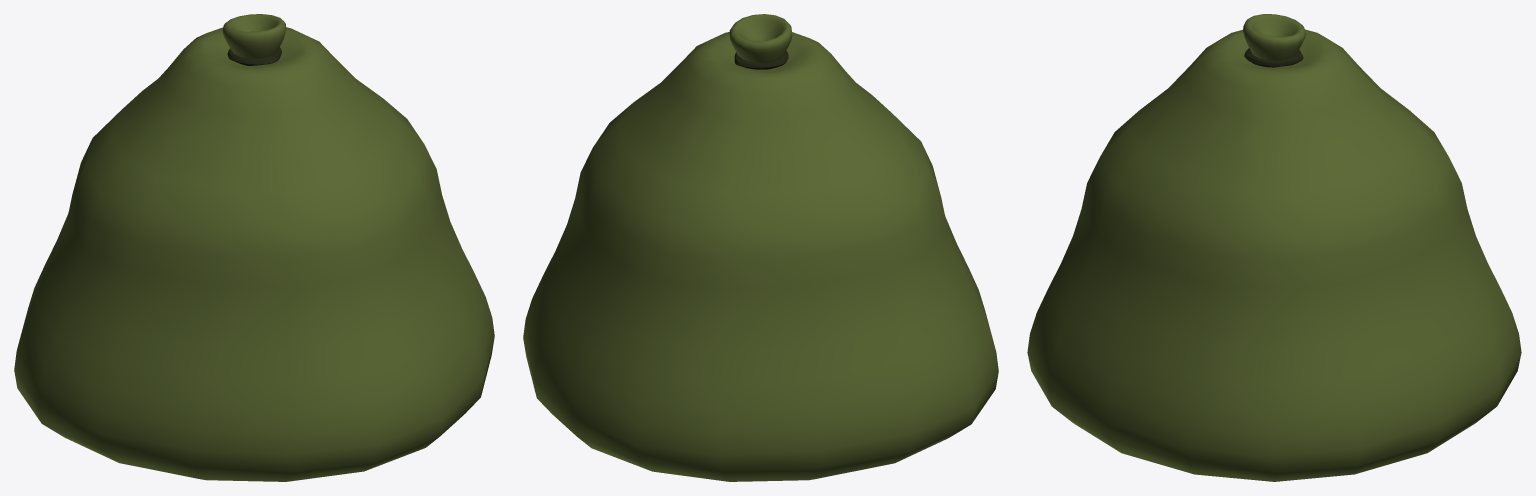
Rendered from BolsaV_04.fbx.
The picture shows the model from 3 angles, left to right: view 1: azimuth 30°, elevation 25°; view 2: azimuth 150°, elevation 25°; view 3: azimuth 270°, elevation 25°; orthographic projection.
Parts seen in each view (by area): view 1: BolsaV_04; view 2: BolsaV_04; view 3: BolsaV_04.
Part boxes in pixels (x1,y1,x2,y2): BolsaV_04: (14, 14, 494, 481); BolsaV_04: (523, 14, 998, 481); BolsaV_04: (1027, 14, 1521, 481).
Size of the model in its own units: 100 by 91.04 by 100.
